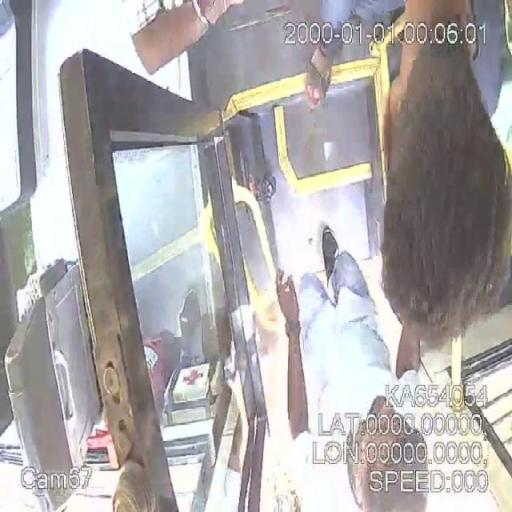persona: (271, 223, 448, 512), (376, 1, 510, 381)
